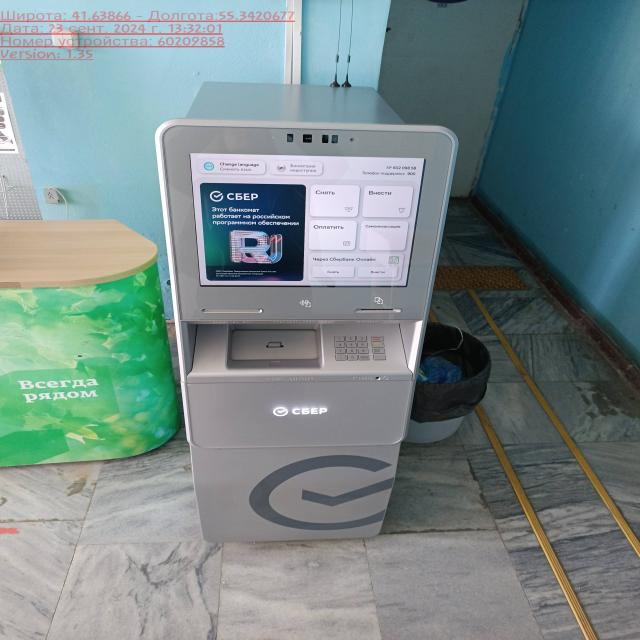bank: (156, 80, 462, 547)
